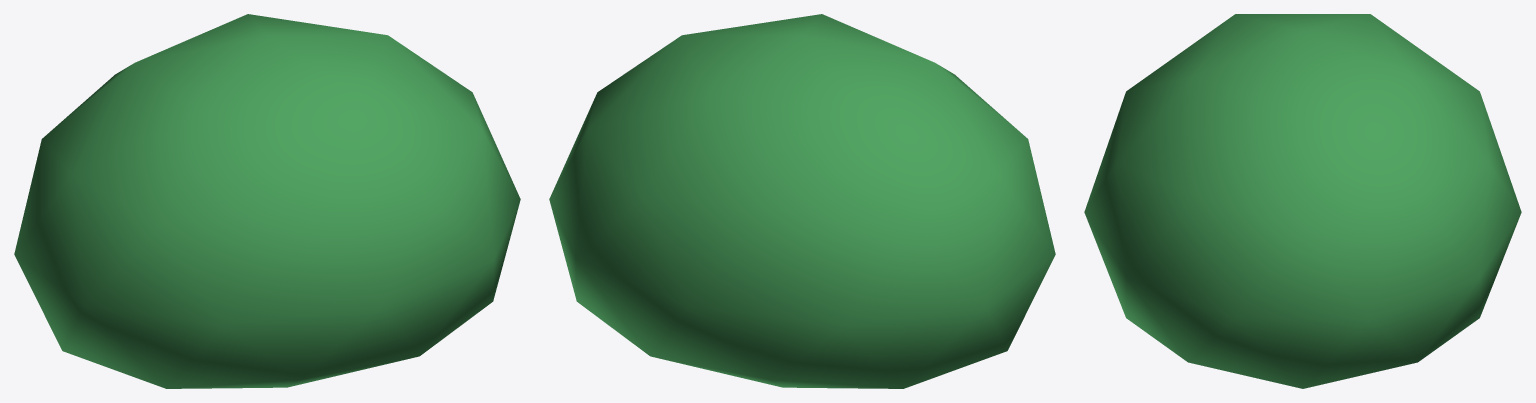
Rendered from Bush2.fbx.
3 renders of one model, left to right at view 1: azimuth 30°, elevation 25°; view 2: azimuth 150°, elevation 25°; view 3: azimuth 270°, elevation 25°, orthographic. The views are drawn at different scales.
Parts seen in each view (by area): view 1: Bush_2; view 2: Bush_2; view 3: Bush_2.
Boxes of the visible parts, left/top/right/bottom form: Bush_2: left=14, top=14, right=520, bottom=388; Bush_2: left=549, top=14, right=1055, bottom=388; Bush_2: left=1084, top=14, right=1521, bottom=388.
Bounding box in the file's own units: 81.28 × 54.71 × 73.36.
